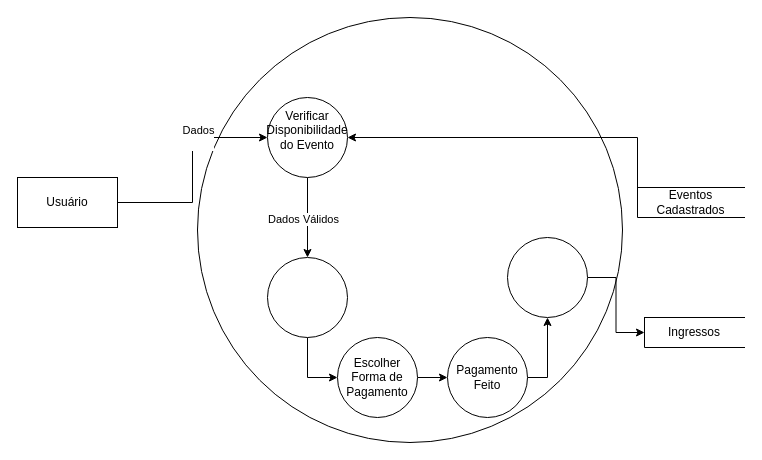
Some shapes in this 762 by 460 pixel diagram are drawn without their labels. Each missing label, with the centre of its shape:
Confirmar Para Pagamento: the point at 307,297
Ingresso Comprado: the point at 547,277
